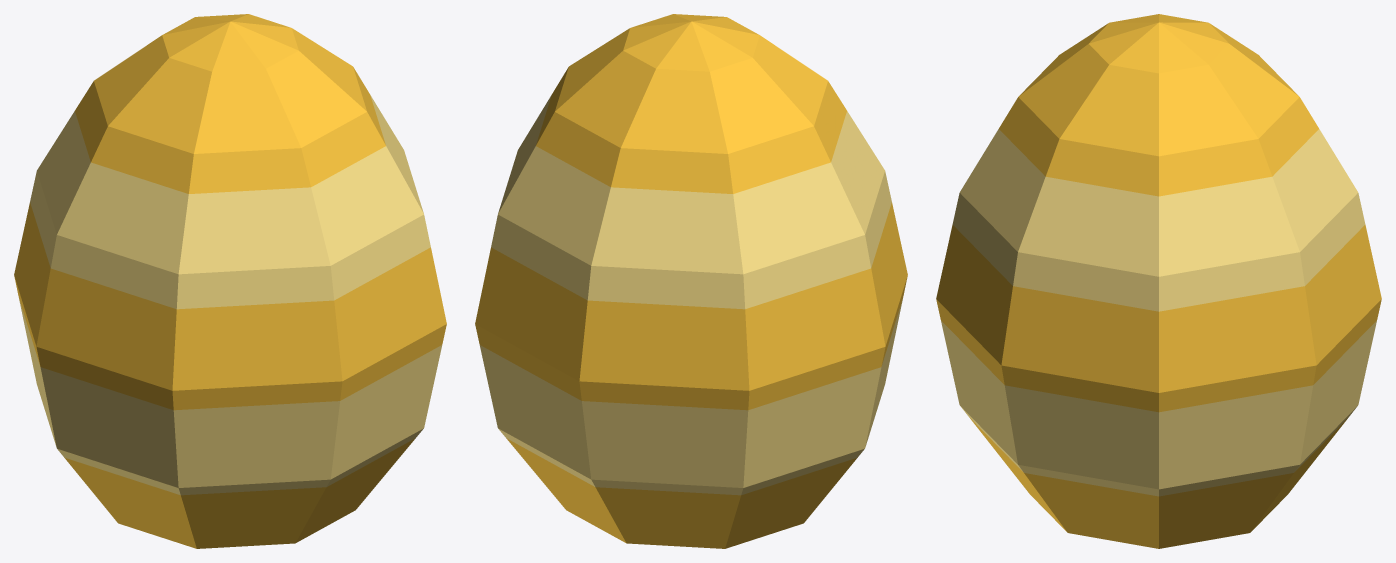
The model's file is GoldenEasterEgg.fbx.
3 views of the same model, side by side, from view 1: azimuth 30°, elevation 25°; view 2: azimuth 150°, elevation 25°; view 3: azimuth 270°, elevation 25° (orthographic).
Parts seen in each view (by area): view 1: GoldenEasterEgg; view 2: GoldenEasterEgg; view 3: GoldenEasterEgg.
Boxes of the visible parts, <box> form: GoldenEasterEgg: <box>14,14,446,548</box>; GoldenEasterEgg: <box>475,14,907,548</box>; GoldenEasterEgg: <box>936,14,1381,548</box>.
Bounding box in the file's own units: 1.9 × 2.3 × 1.9.
Materials: 1 (1 with a texture image).
